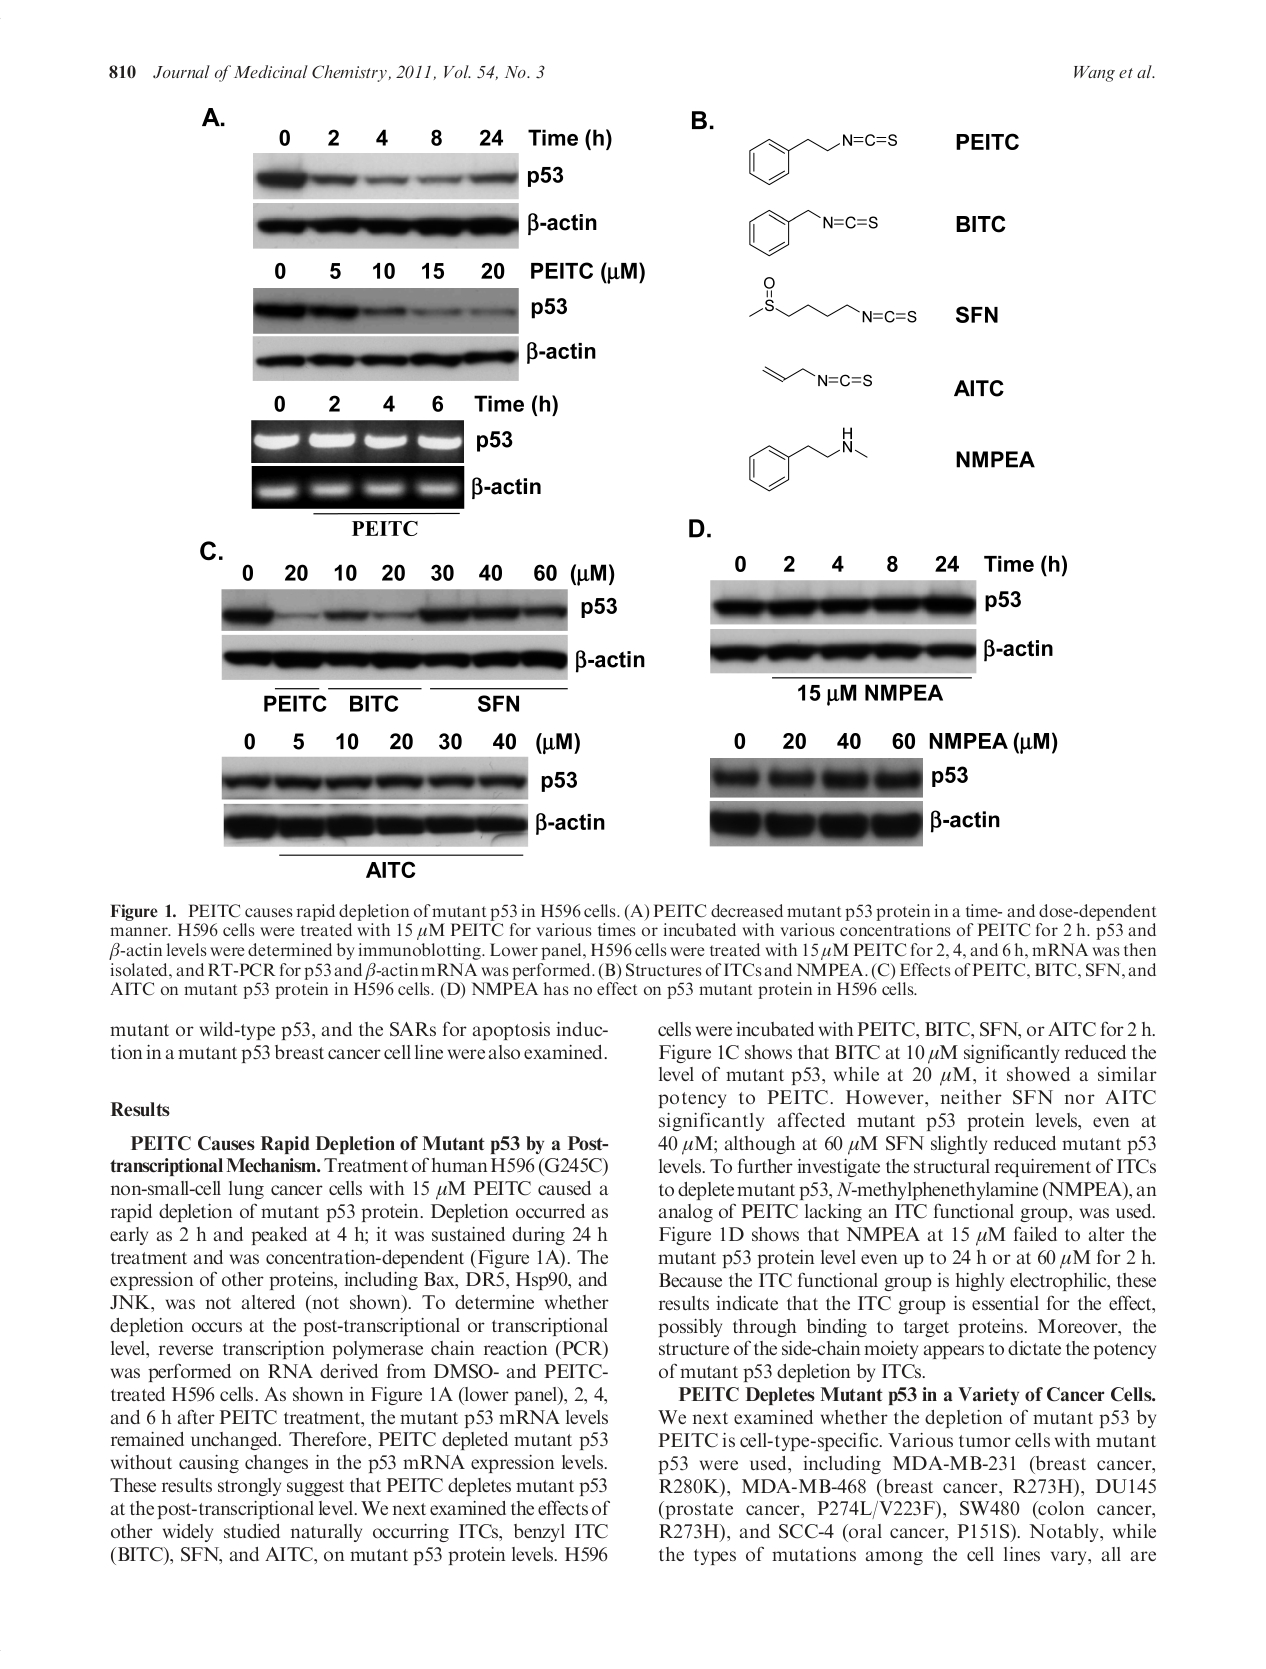exist_molecular: (746, 263, 922, 339), (738, 118, 902, 186), (745, 422, 884, 497), (745, 198, 882, 266), (742, 346, 884, 400)
